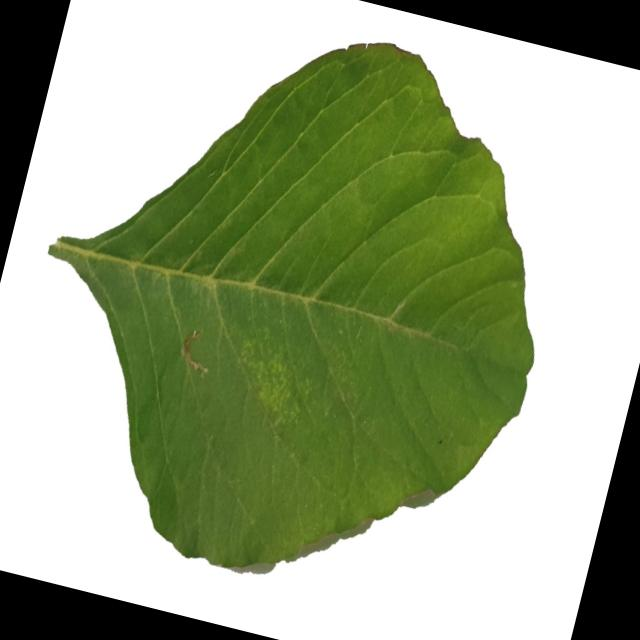Medicinal-Arive Dantu: (0, 0, 599, 628)
